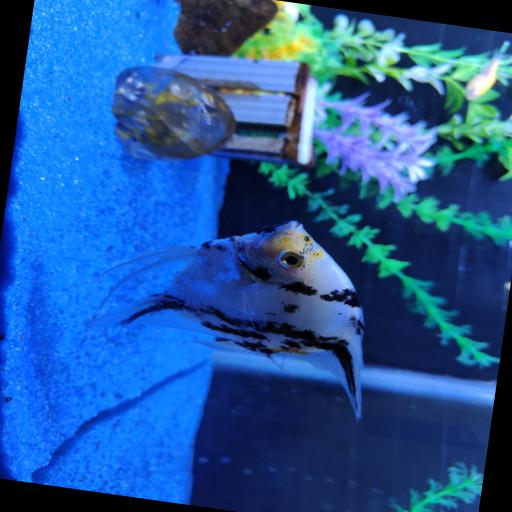Fish: (91, 221, 362, 417), (465, 54, 499, 99)
